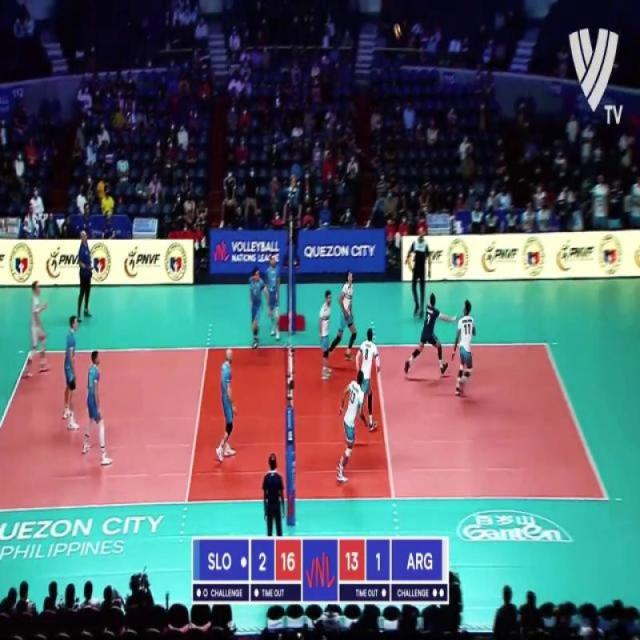volleyball: (392, 22, 403, 41)
